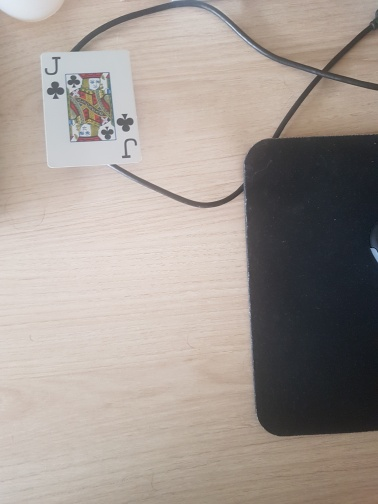jack: (40, 49, 140, 169)
